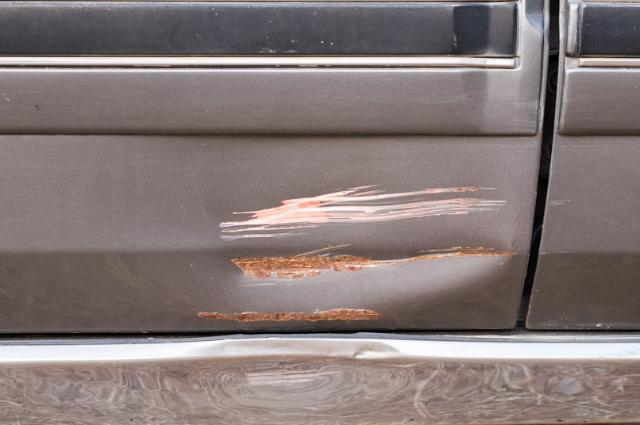Door: (162, 155, 525, 344)
